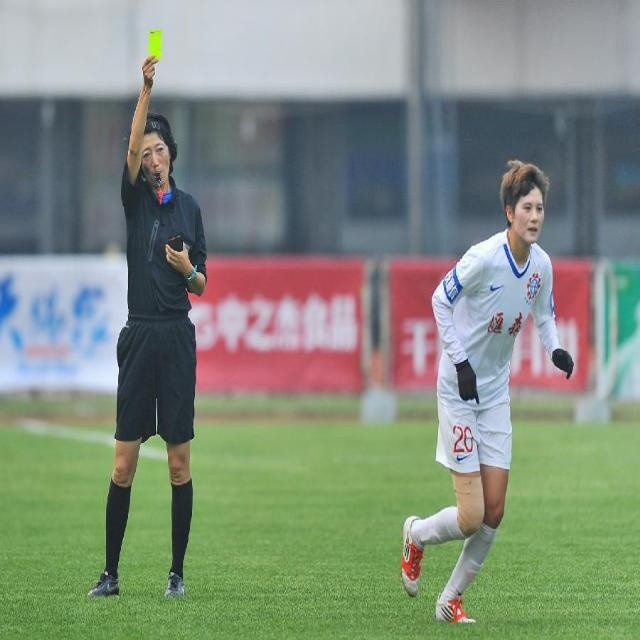obstacle: (390, 146, 600, 640), (97, 31, 216, 634)
